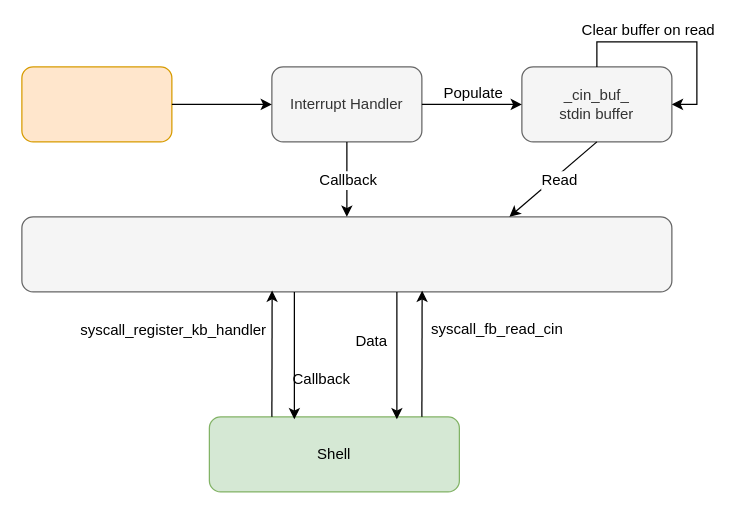
This 736x514 diagram has some shape labels left out. Here are the shapes that lost their labels. From the top down, the centre of each, then its label:
At (x=96, y=104): "Keyboard".
At (x=346, y=254): "Syscall API".
